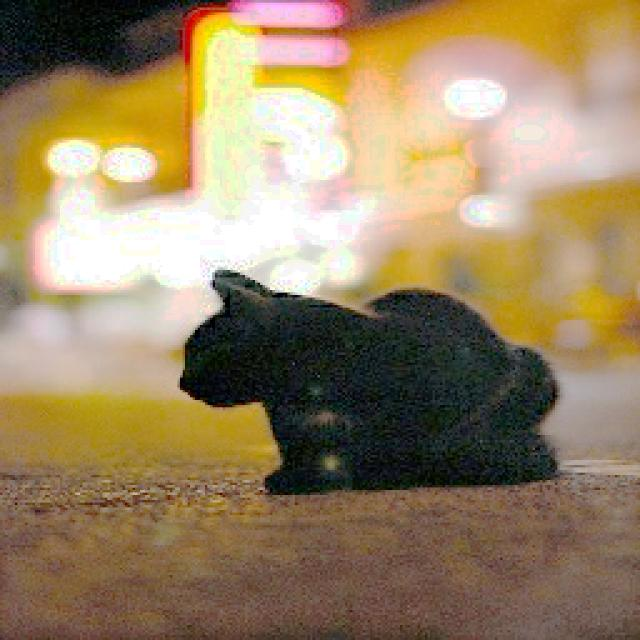cat: (173, 264, 569, 488)
